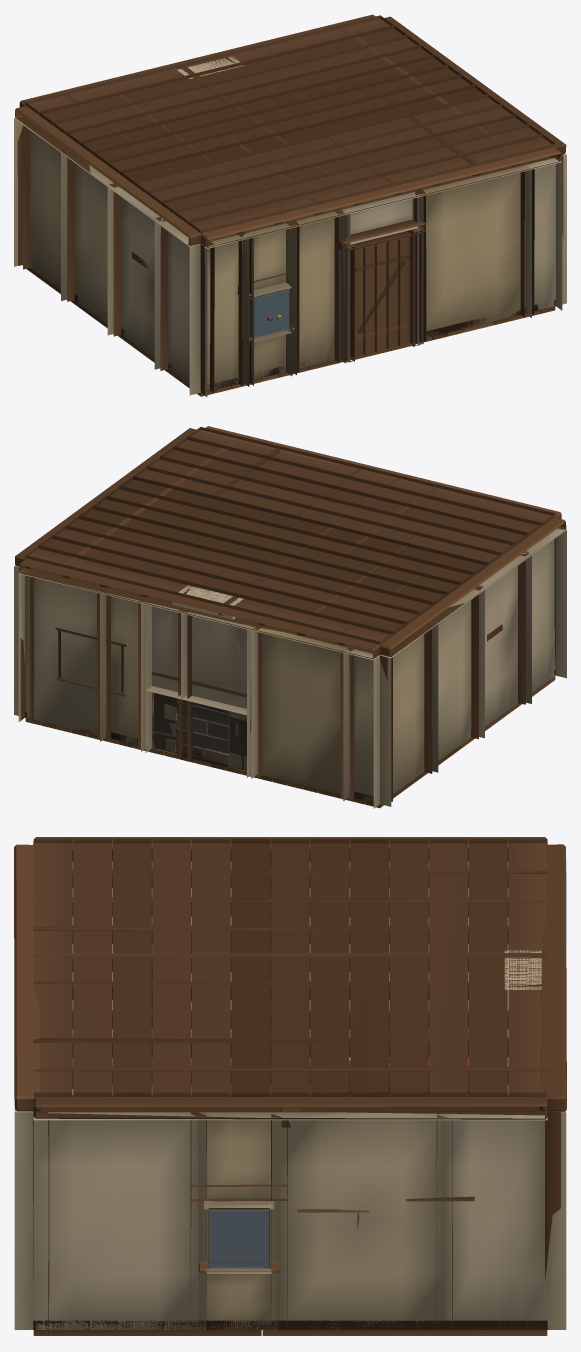
The model's file is maison.glb.
3 views of the same model, one above another, from view 1: azimuth 30°, elevation 25°; view 2: azimuth 150°, elevation 25°; view 3: azimuth 270°, elevation 25° (orthographic). The views are drawn at different scales.
Parts seen in each view (by area): view 1: I_maison; view 2: I_maison; view 3: I_maison.
Boxes of the visible parts, box(x1,y1,x2,y2) form: I_maison: box(14, 14, 566, 396); I_maison: box(14, 426, 566, 808); I_maison: box(14, 837, 566, 1335).
Bounding box in the file's own units: 7.45 × 3.14 × 6.45.
